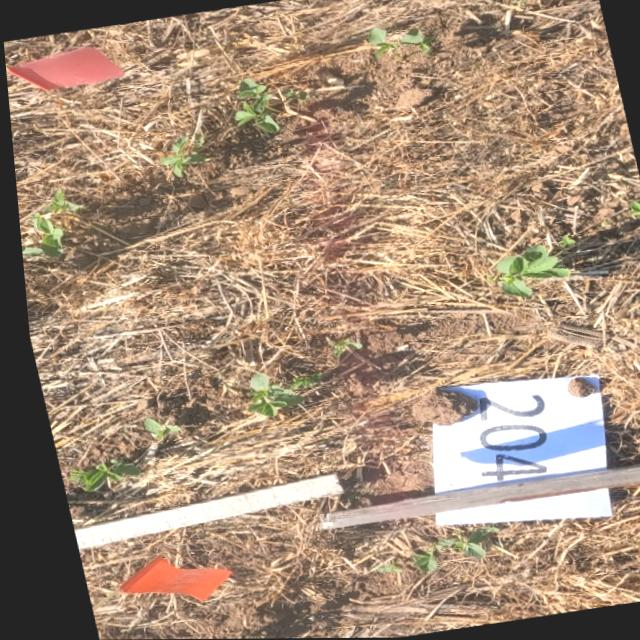soy_plant: (17, 191, 75, 260), (398, 529, 483, 576), (488, 246, 564, 298), (238, 373, 308, 418), (231, 79, 278, 135), (61, 458, 130, 491), (156, 135, 202, 178), (367, 31, 426, 58), (321, 341, 353, 358), (276, 89, 306, 105), (365, 564, 391, 573)
